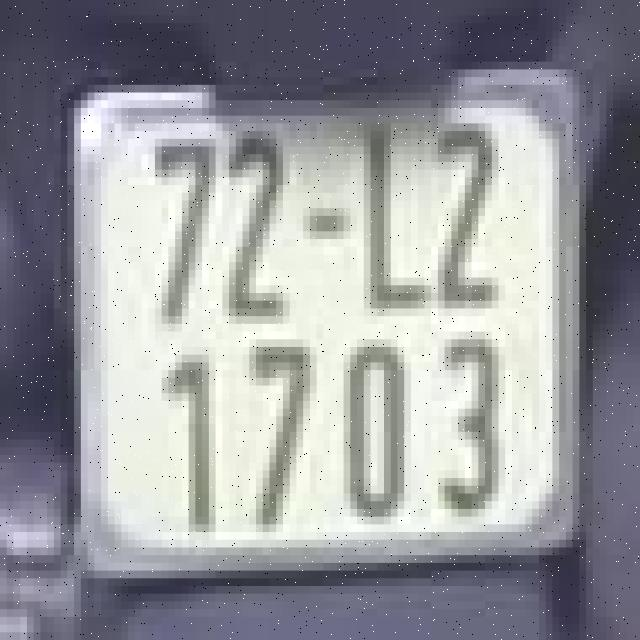0: (340, 320, 414, 528)
1: (158, 351, 219, 544)
2: (428, 108, 508, 324), (229, 120, 303, 336)
3: (428, 332, 502, 532)
7: (229, 335, 310, 536), (138, 127, 219, 320)
L: (347, 108, 428, 308)
